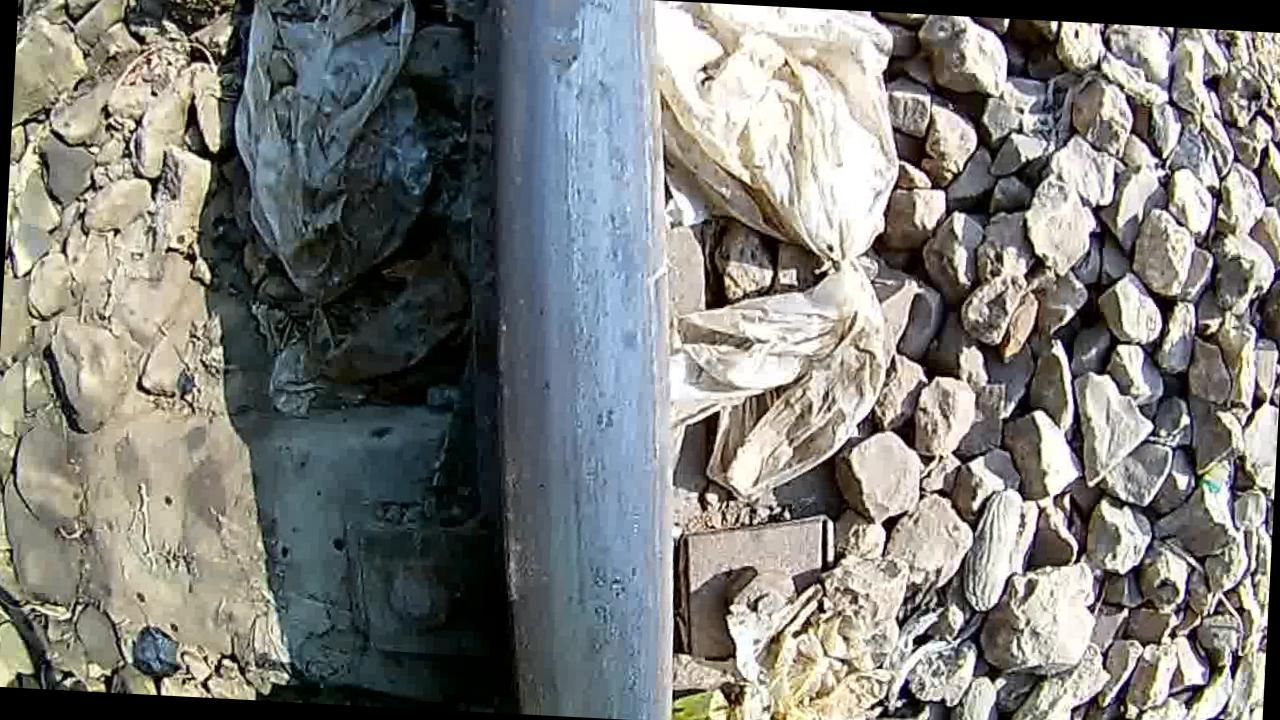bolt_missing: (466, 0, 675, 720)
